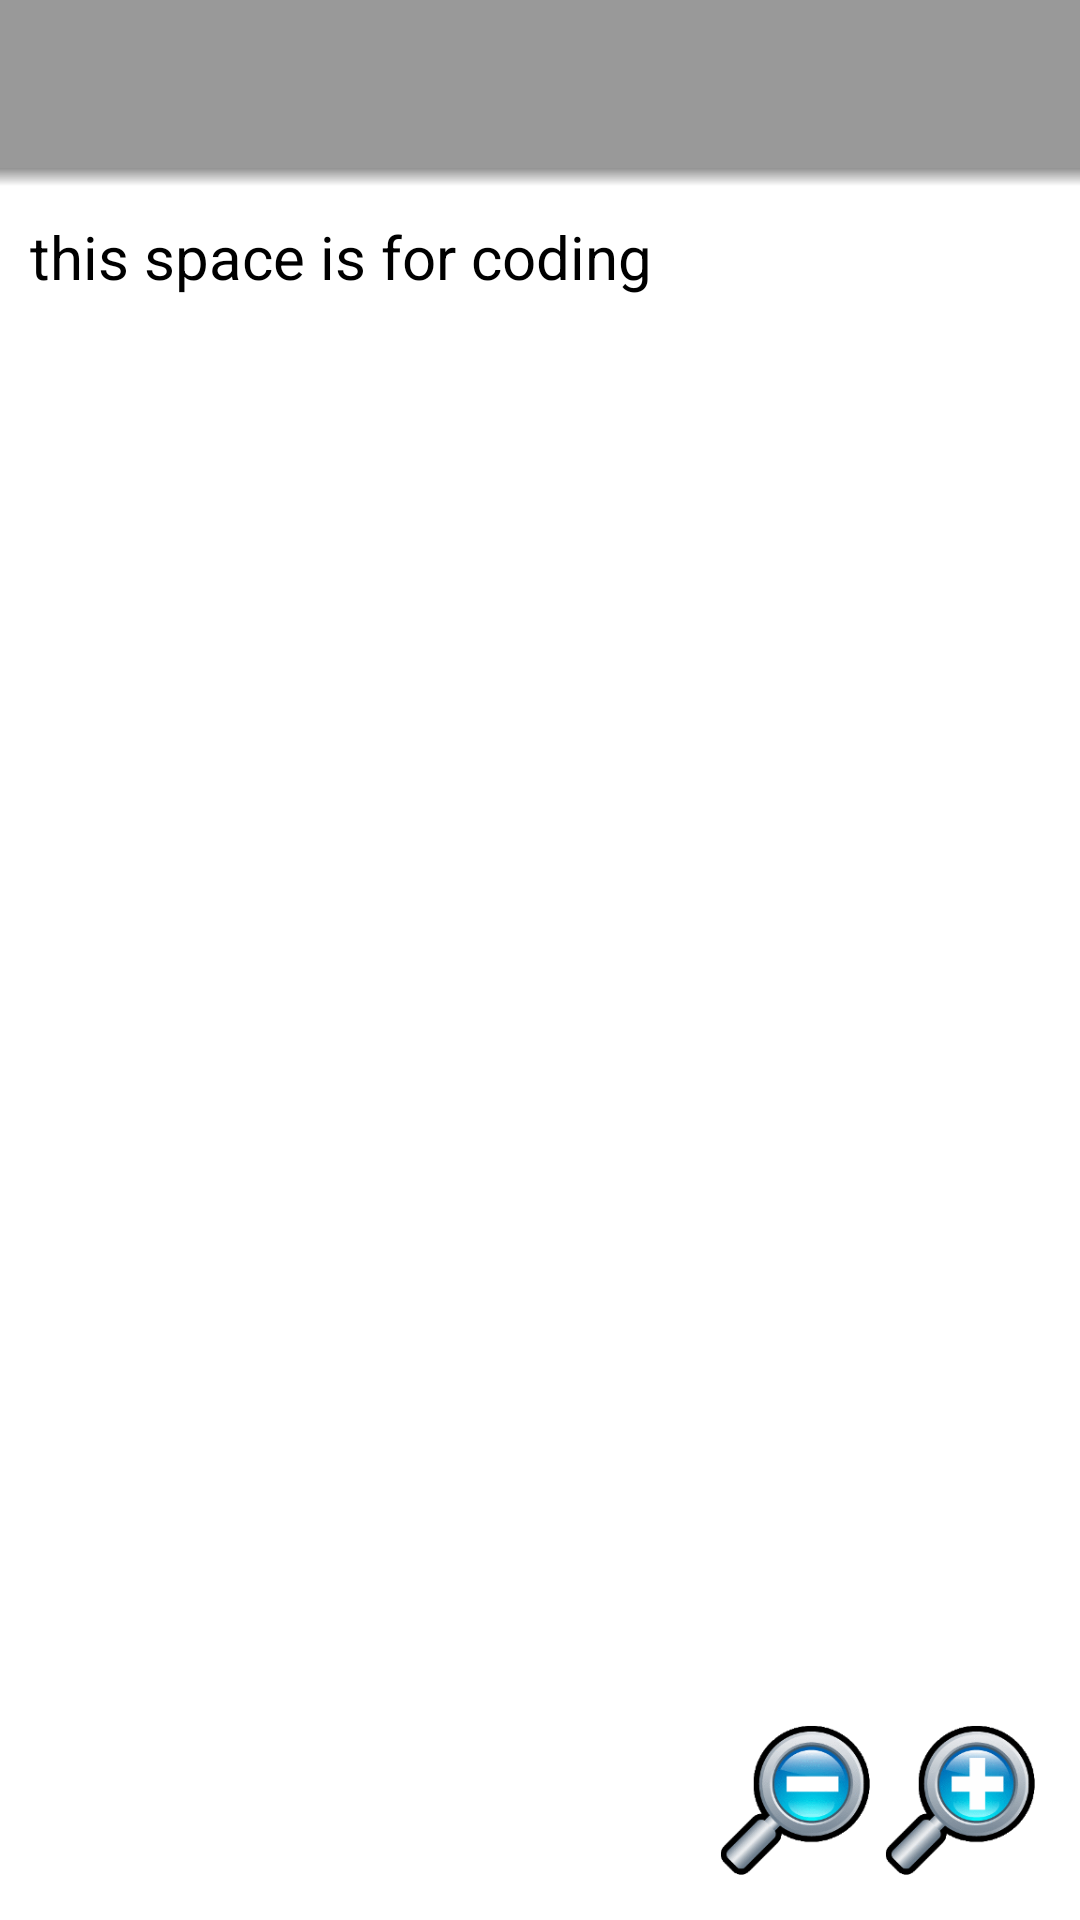

Named icons in this screenshot (1080 x 1920) and their bounding boxes, (x1, y1, x2, y2):
zoomin: (886, 1726, 1035, 1875)
zoomout: (721, 1726, 870, 1875)
